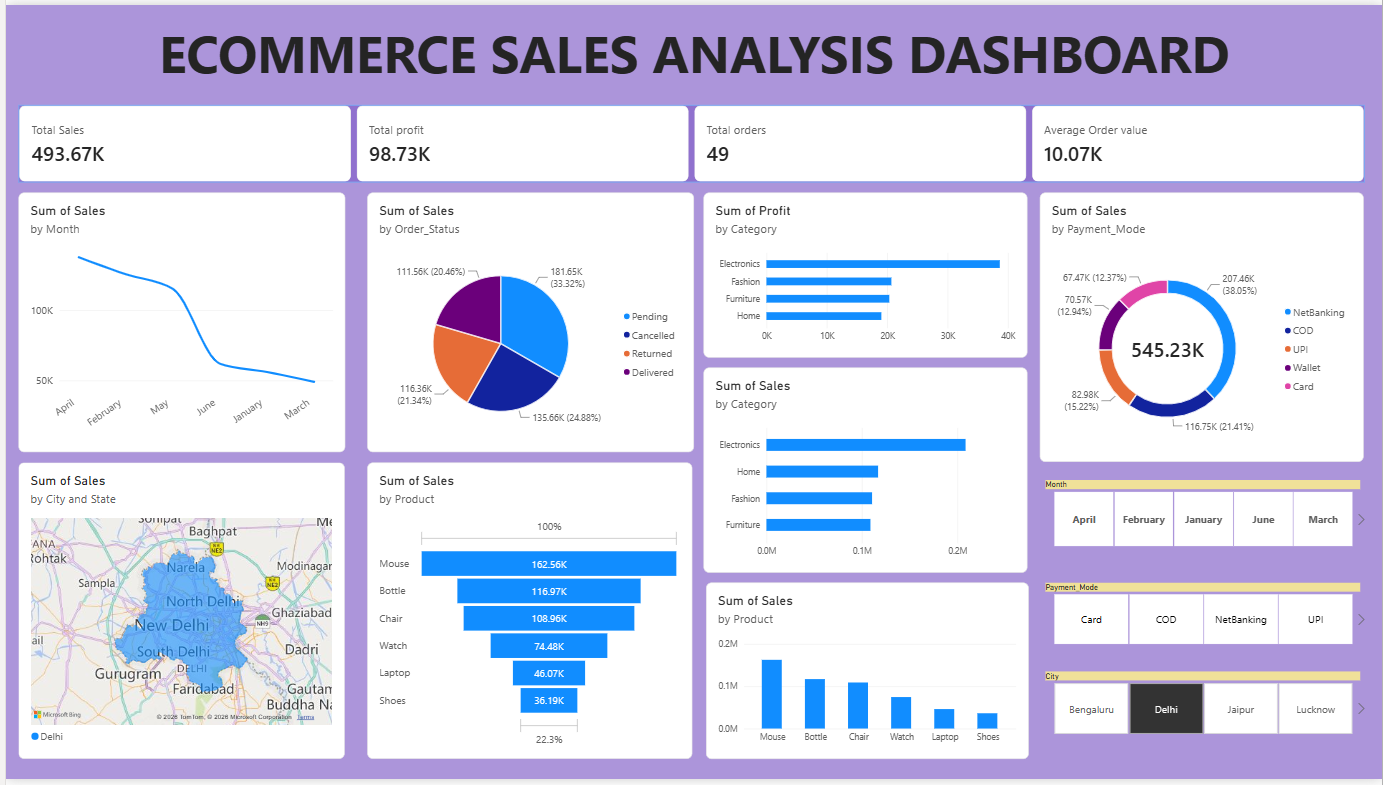

The page's visual inventory and layout, read from the dashboard file:
{"tool":"powerbi","page":{"name":"Page 1","canvas":[1920,1080],"ordinal":0},"visuals":[{"type":"cardVisual","fields":{"Data":["Dex measure.Total Sales","Dex measure.Total profit","Dex measure.Total orders","Dex measure.Average Order value"]},"box":[18,140,1880,108],"z":0},{"type":"textbox","box":[0,16.7,1920.4,124.1],"z":1000},{"type":"lineChart","fields":{"Category":["ecommerce orders.Month"],"Y":["Sum(ecommerce orders.Sales)"]},"box":[18,262,456,362],"z":2000},{"type":"barChart","fields":{"Category":["ecommerce orders.Category"],"Y":["Sum(ecommerce orders.Sales)"]},"box":[974,506,452,286],"z":3000},{"type":"columnChart","fields":{"Category":["ecommerce orders.Product"],"Y":["Sum(ecommerce orders.Sales)"]},"box":[976,806,450,246],"z":4000},{"type":"donutChart","fields":{"Category":["ecommerce orders.Payment_Mode"],"Y":["Sum(ecommerce orders.Sales)"]},"box":[1442,262,452,376],"z":5000},{"type":"pieChart","fields":{"Category":["ecommerce orders.Order_Status"],"Y":["Sum(ecommerce orders.Sales)"]},"box":[504,262,456,362],"z":6000},{"type":"funnel","fields":{"Category":["ecommerce orders.Product"],"Y":["Sum(ecommerce orders.Sales)"]},"box":[504.1,638.4,453.5,413.4],"z":7000},{"type":"barChart","fields":{"Category":["ecommerce orders.Category"],"Y":["Sum(ecommerce orders.Profit)"]},"box":[974,262,452,230],"z":8000},{"type":"slicer","fields":{"Values":["ecommerce orders.Month"]},"box":[1442.4,662.8,455.2,94.2],"z":8001},{"type":"slicer","fields":{"Values":["ecommerce orders.Payment_Mode"]},"box":[1442.4,805.8,455.2,87.2],"z":8003},{"type":"filledMap","fields":{"Category":["ecommerce orders.City"],"Series":["ecommerce orders.State"]},"box":[17.4,638.4,455.2,413.4],"z":8004},{"type":"slicer","fields":{"Values":["ecommerce orders.City"]},"box":[1442.4,929.7,455.2,89],"z":8005}]}

Visuals, with their boxes in screenshot pixels (x1, y1, x2, y2), scaled from the page's 1920x1080 canvas onto the 1385x785 screenshot:
cardVisual - Dex measure.Total Sales x Dex measure.Total profit: <region>13, 102, 1369, 180</region>
textbox: <region>0, 12, 1384, 102</region>
lineChart - ecommerce orders.Month x Sum(ecommerce orders.Sales): <region>13, 190, 342, 454</region>
barChart - ecommerce orders.Category x Sum(ecommerce orders.Sales): <region>703, 368, 1029, 576</region>
columnChart - ecommerce orders.Product x Sum(ecommerce orders.Sales): <region>704, 586, 1029, 765</region>
donutChart - ecommerce orders.Payment_Mode x Sum(ecommerce orders.Sales): <region>1040, 190, 1366, 464</region>
pieChart - ecommerce orders.Order_Status x Sum(ecommerce orders.Sales): <region>364, 190, 692, 454</region>
funnel - ecommerce orders.Product x Sum(ecommerce orders.Sales): <region>364, 464, 691, 765</region>
barChart - ecommerce orders.Category x Sum(ecommerce orders.Profit): <region>703, 190, 1029, 358</region>
slicer - ecommerce orders.Month: <region>1040, 482, 1369, 550</region>
slicer - ecommerce orders.Payment_Mode: <region>1040, 586, 1369, 649</region>
filledMap - ecommerce orders.City x ecommerce orders.State: <region>13, 464, 341, 765</region>
slicer - ecommerce orders.City: <region>1040, 676, 1369, 740</region>
